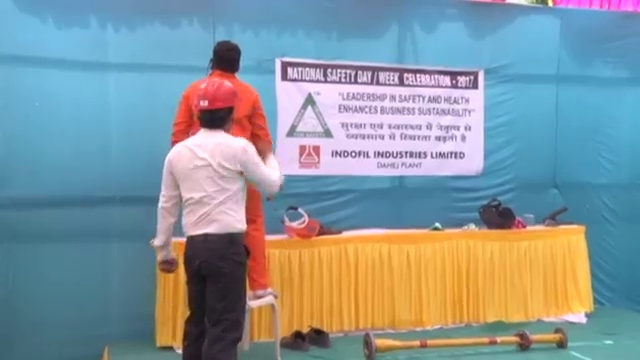helmet: (192, 77, 238, 111)
helmet_off: (209, 39, 242, 75)
helmet_on: (191, 77, 237, 131)
person: (153, 74, 277, 360), (174, 39, 280, 297)
